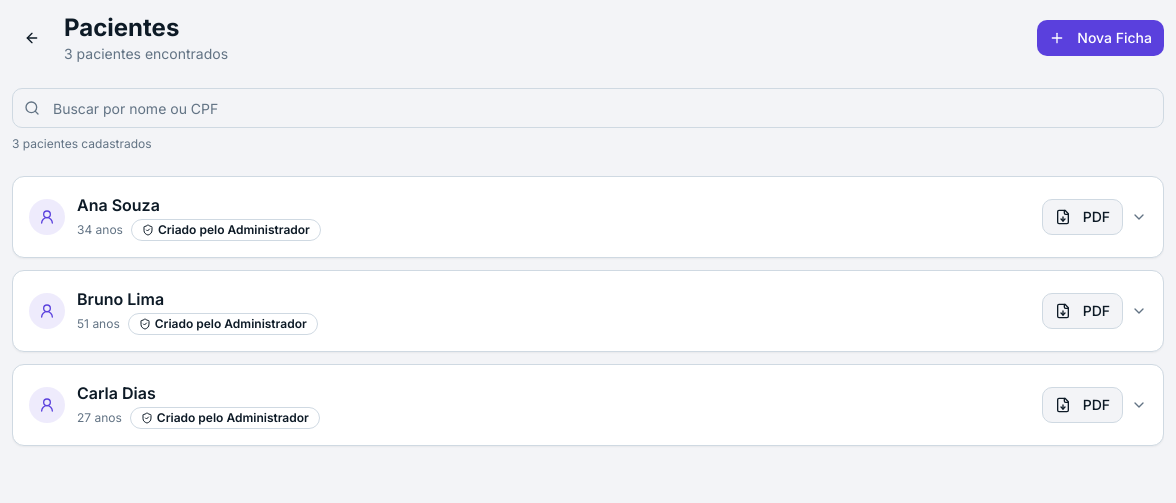
Test: Patients search › shows a friendly empty state with a button that clears the search
The image size is (1176, 503).
Expected: the text "Ana Souza" is shown, [77,195,160,215]
Type "zezinho" into the field labelled "Buscar por nome ou CPF" at (588, 108), box [12,88,1164,128]
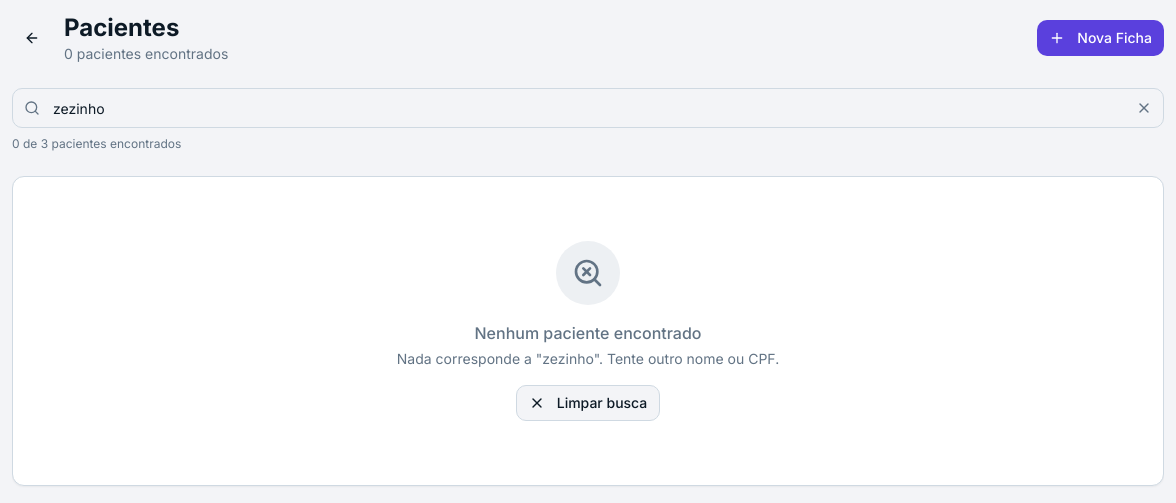
Expected: the text "Nenhum paciente encontrado" is shown, [474,321,702,345]
Click the button "Limpar busca" at (588, 403), box [516,385,660,421]
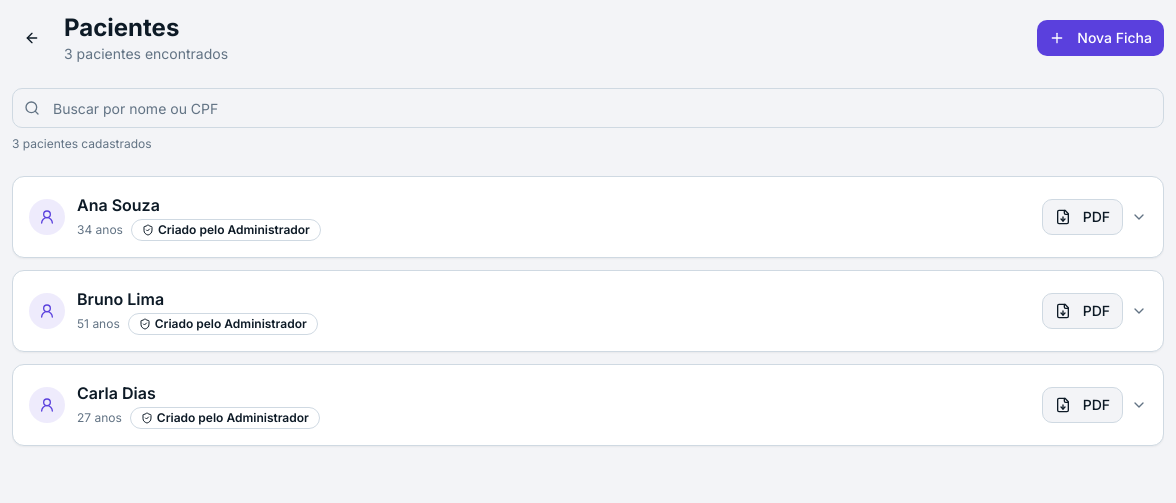
Expected: the field labelled "Buscar por nome ou CPF" is empty, [12,88,1164,128]
Expected: the text "3 pacientes cadastrados" is shown, [12,136,152,151]
Expected: the text "Ana Souza" is shown, [77,195,160,215]
